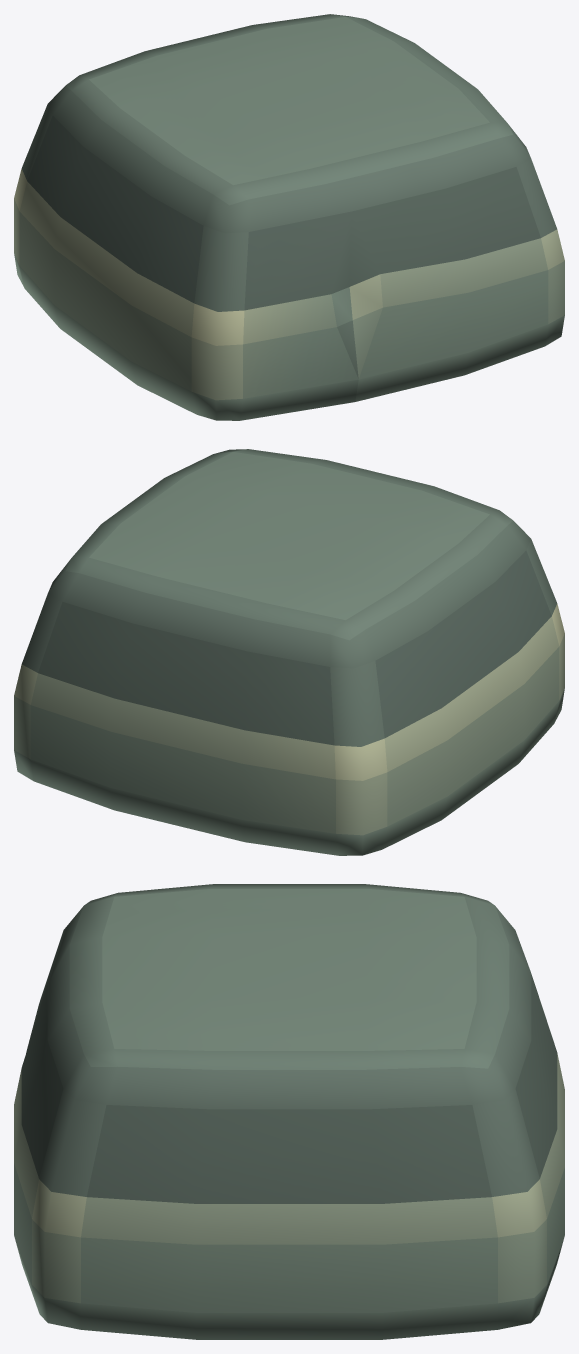
File: block_stone1_3_half_plinth_LOD_group.fbx
The picture shows the model from 3 angles, top to bottom: view 1: azimuth 30°, elevation 25°; view 2: azimuth 150°, elevation 25°; view 3: azimuth 270°, elevation 25°; orthographic projection. The views are drawn at different scales.
Parts seen in each view (by area): view 1: block_stone1_3_half_plinth_LOD0; view 2: block_stone1_3_half_plinth_LOD0; view 3: block_stone1_3_half_plinth_LOD0.
Part boxes in pixels (<box>): block_stone1_3_half_plinth_LOD0: <box>14,14,564,420</box>; block_stone1_3_half_plinth_LOD0: <box>14,449,564,855</box>; block_stone1_3_half_plinth_LOD0: <box>14,884,564,1339</box>.
Size of what is drawn, in the model's own units: 105 by 57.2 by 106.
Materials: 1 (1 with a texture image).
